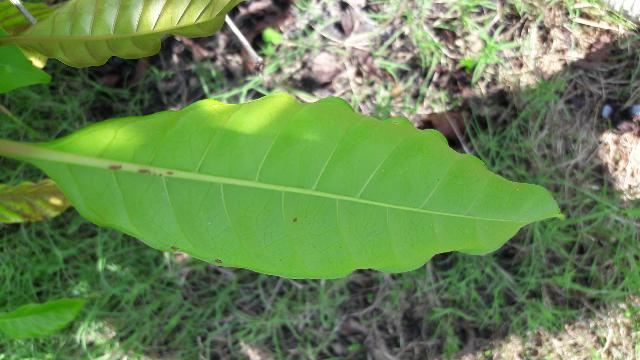healthy: (40, 98, 560, 274)
